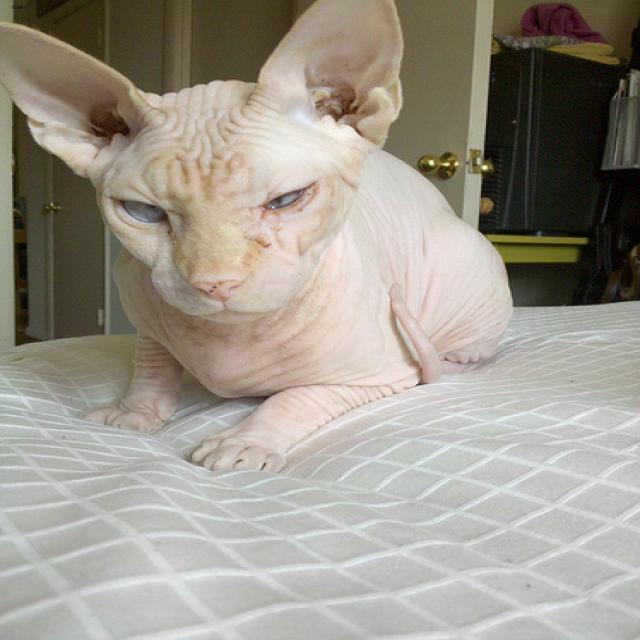Sphynx: (0, 0, 404, 326)
